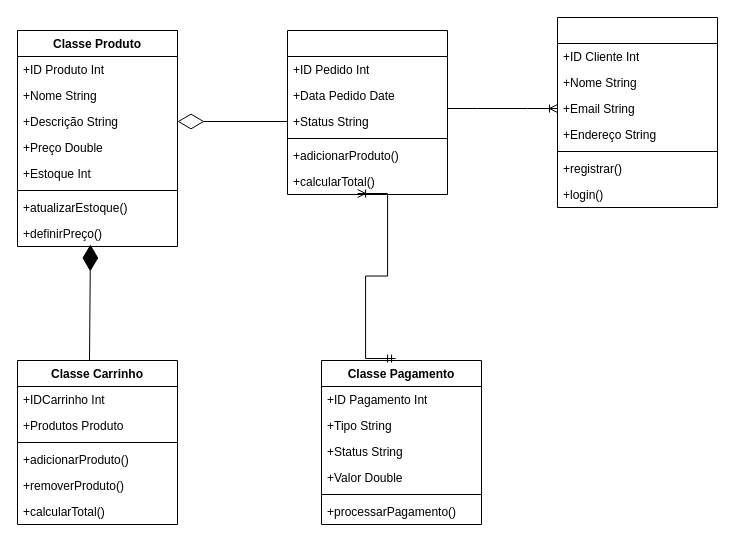
This 735x545 diagram has some shape labels left out. Each missing label, with the box of its shape:
Classe Cliente: (556, 16, 718, 208)
Classe Pedido: (286, 30, 448, 194)
